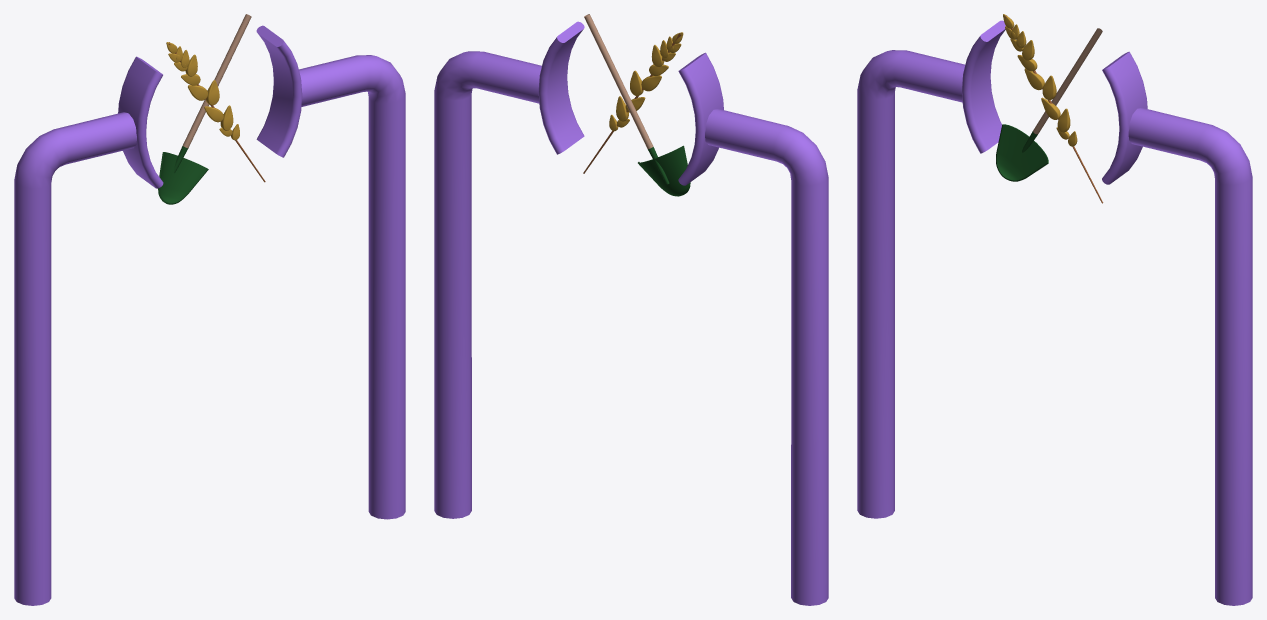
The model's file is CiftciKaps.fbx.
3 renders of one model, left to right at view 1: azimuth 30°, elevation 25°; view 2: azimuth 150°, elevation 25°; view 3: azimuth 330°, elevation 25°, orthographic.
Visible parts, largest first — view 1: Cube, Circle, Sphere, Plane.001; view 2: Cube, Circle, Sphere, Plane.001; view 3: Cube, Circle, Sphere, Plane.001.
Part boxes in pixels (x1=…): Cube: x1=14, y1=55, x2=405, y2=605; Circle: x1=118, y1=25, x2=302, y2=188; Sphere: x1=158, y1=152, x2=208, y2=204; Plane.001: x1=173, y1=14, x2=251, y2=173; Cube: x1=434, y1=51, x2=828, y2=605; Circle: x1=538, y1=21, x2=723, y2=185; Sphere: x1=638, y1=145, x2=690, y2=196; Plane.001: x1=584, y1=14, x2=669, y2=184; Cube: x1=857, y1=50, x2=1252, y2=605; Circle: x1=961, y1=20, x2=1147, y2=184; Sphere: x1=996, y1=124, x2=1048, y2=181; Plane.001: x1=1022, y1=28, x2=1102, y2=152.
Bounding box in the file's own units: 71.86 × 93.9 × 7.6.
